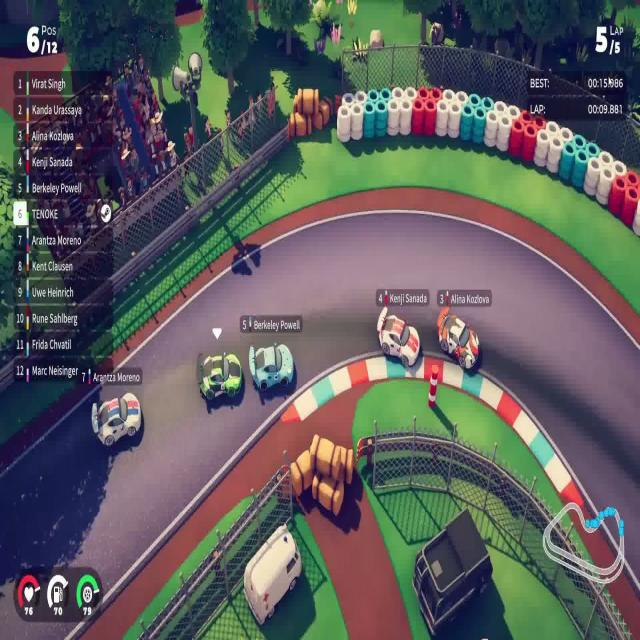car: (436, 300, 481, 372), (90, 391, 142, 448), (376, 305, 420, 368), (248, 341, 294, 393), (199, 350, 243, 402)
